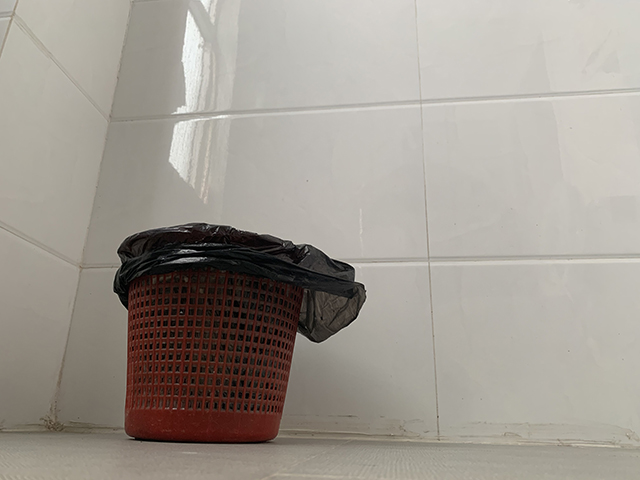trashcan: (112, 220, 369, 444)
